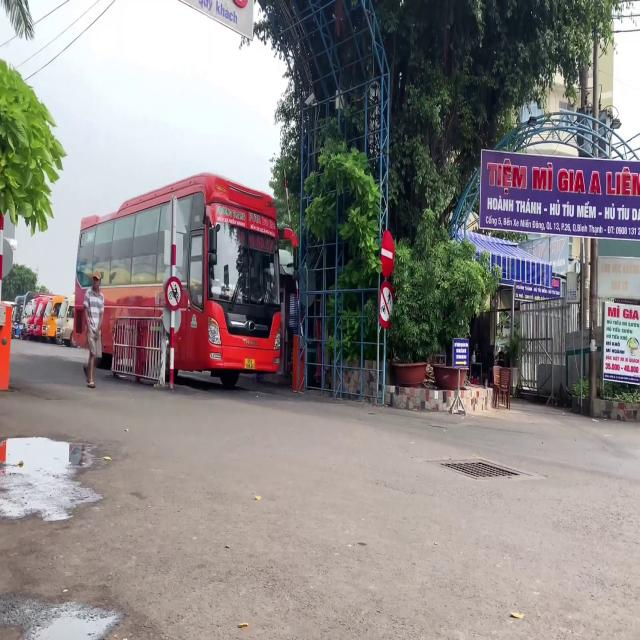bien_vang: (244, 357, 255, 370)
